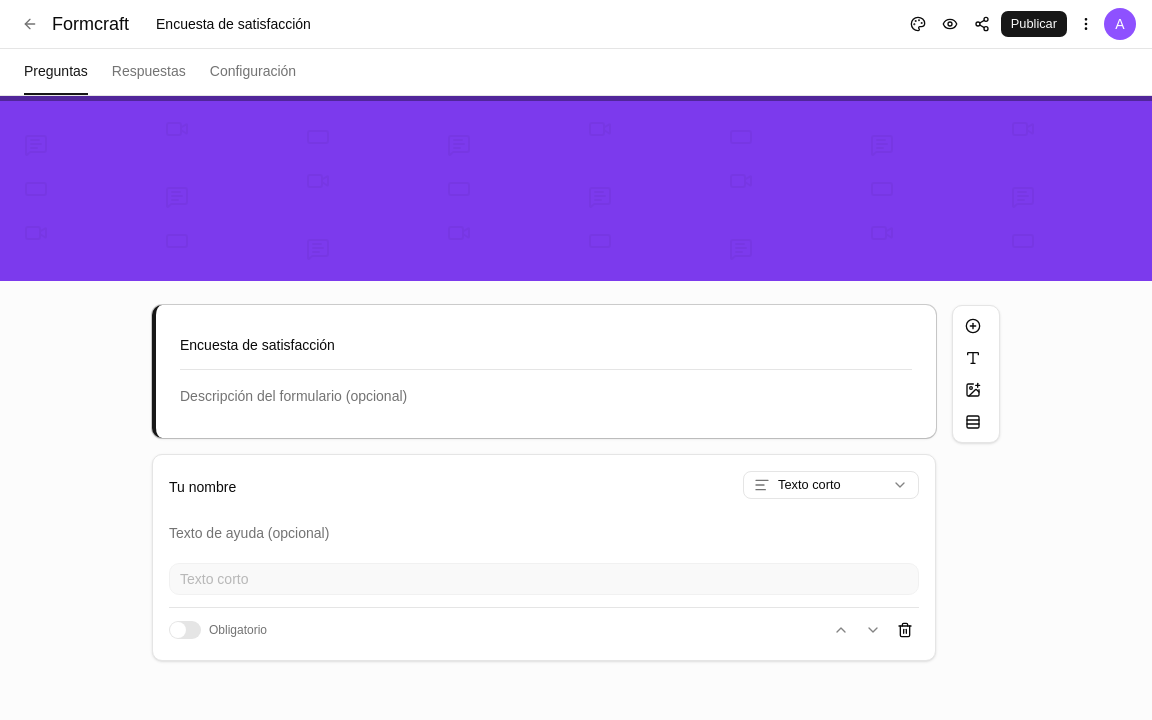
Test: FormEditorPage › switches to the Settings tab
Click the button "Configuración": (253, 72) 210,49 -> 296,95
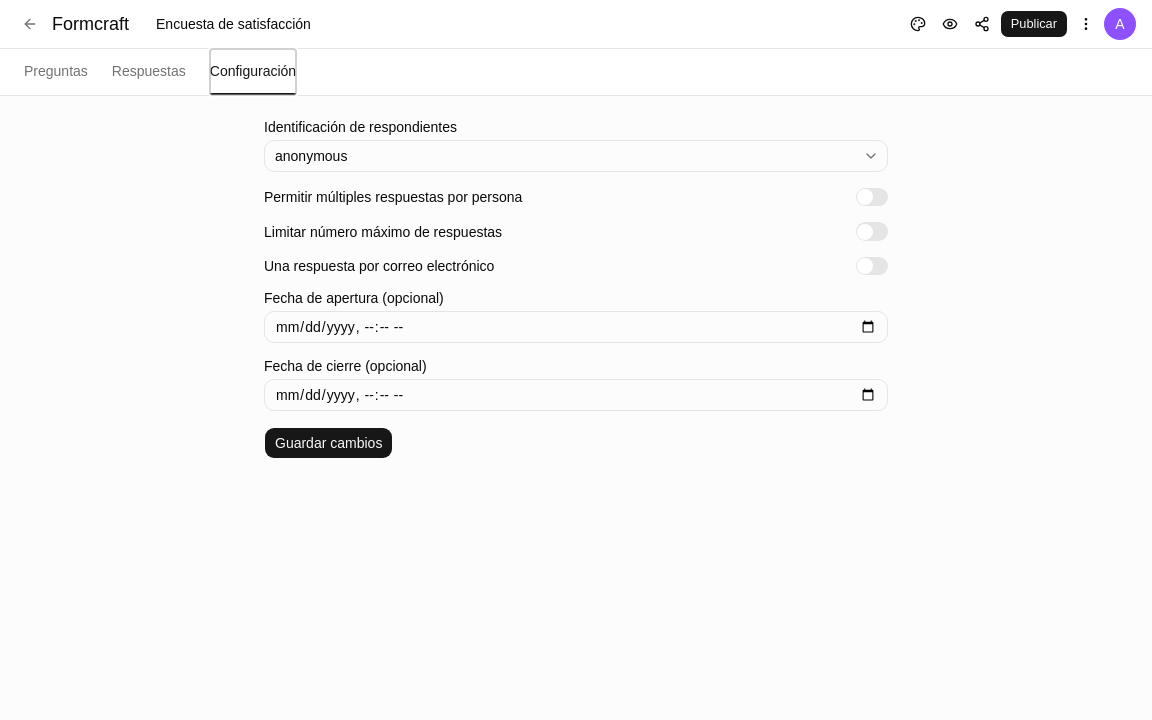
Now the text "Identificación de respondientes" is shown, box 264,119 -> 457,135
